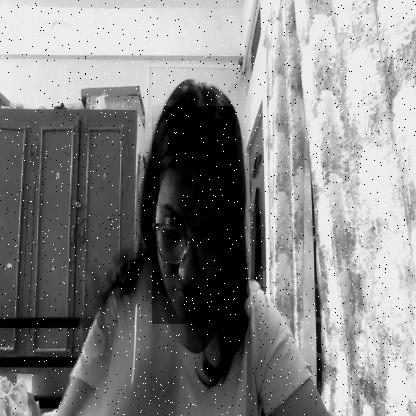Distracted: (152, 106, 236, 324)
